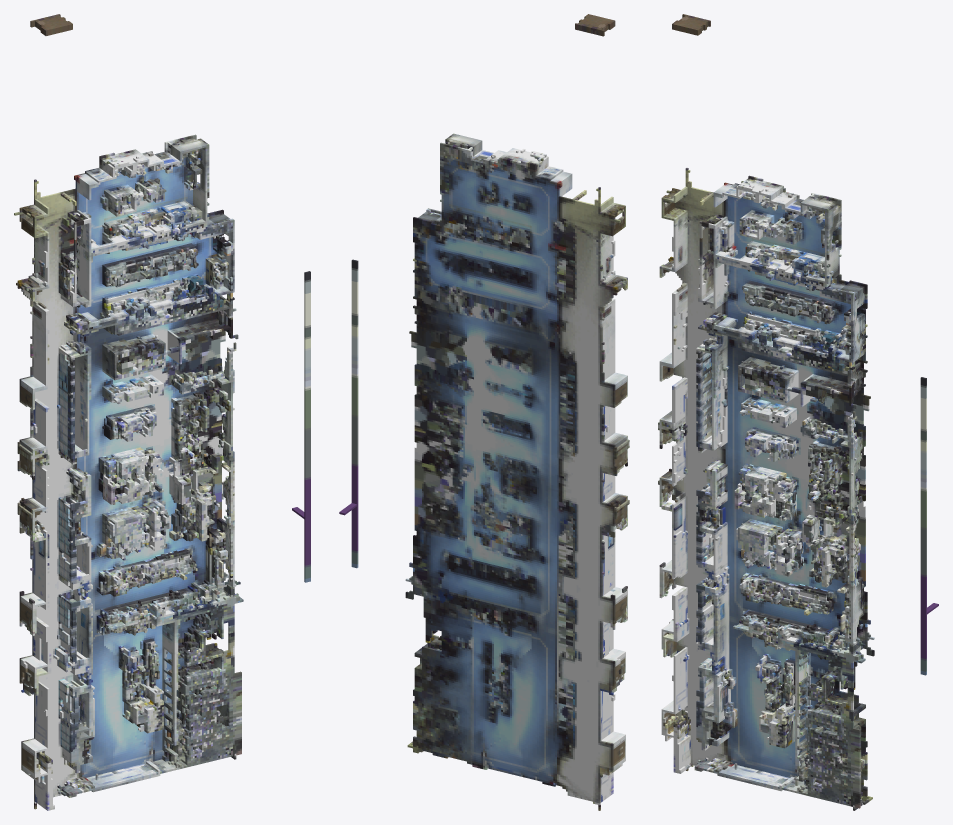
File: geomap_combined12_noroof.obj
The picture shows the model from 3 angles, left to right: view 1: azimuth 30°, elevation 25°; view 2: azimuth 150°, elevation 25°; view 3: azimuth 330°, elevation 25°; orthographic projection. The views are drawn at different scales.
Visible parts, largest first — view 1: mesh; view 2: mesh; view 3: mesh.
Part boxes in pixels (x1,y1,x2,y2): mesh: (14, 14, 310, 810); mesh: (339, 14, 629, 810); mesh: (658, 14, 938, 810).
Bounding box in the file's own units: 31.2 × 83 × 2.6.
1 material, 1 textured.
